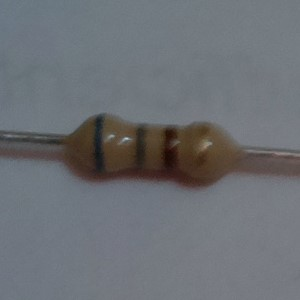blue_band: (92, 111, 108, 174)
brown_band: (160, 125, 182, 174)
gold_band: (190, 121, 213, 183)
grey_band: (134, 122, 149, 171)
